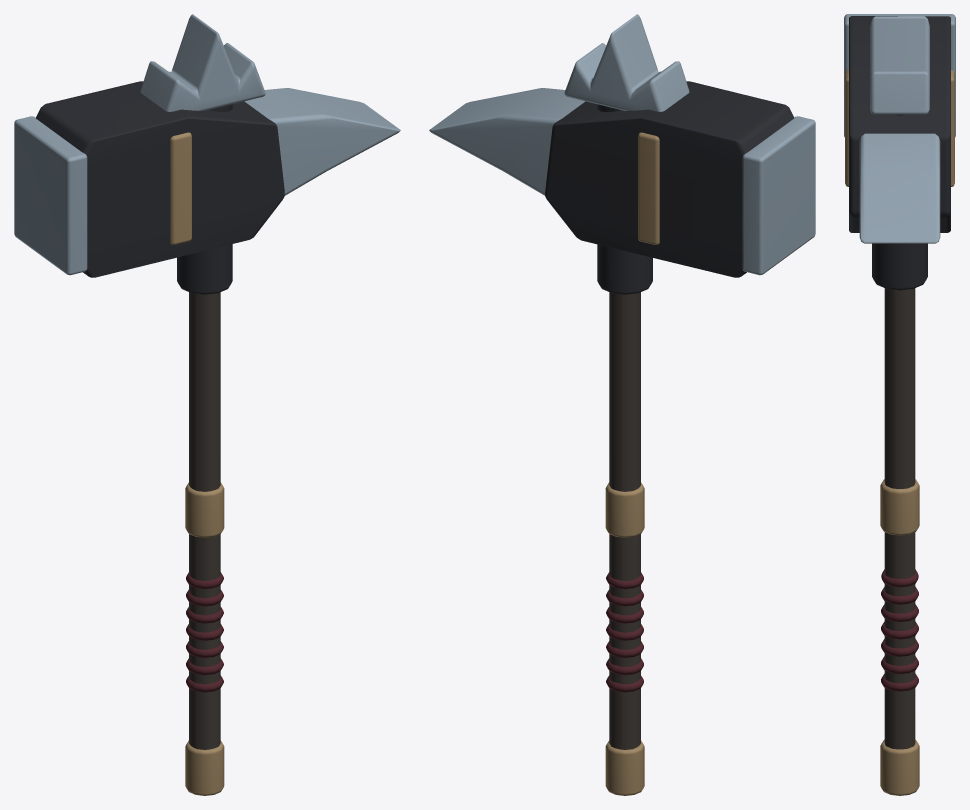
The model's file is bell-of-ruin.glb.
The picture shows the model from 3 angles, left to right: view 1: azimuth 30°, elevation 25°; view 2: azimuth 150°, elevation 25°; view 3: azimuth 270°, elevation 25°; orthographic projection.
Parts seen in each view (by area): view 1: Integral hammer housing, Walnut haft.001, Inset impact plate, Integral raven beak, Seated cathedral crown, Hammer haft socket, Seated hammer inlay, Brass ferrule.004, Brass ferrule.003; view 2: Integral hammer housing, Walnut haft.001, Inset impact plate, Integral raven beak, Seated cathedral crown, Hammer haft socket, Seated hammer inlay.001, Brass ferrule.004, Brass ferrule.003; view 3: Walnut haft.001, Integral raven beak, Integral hammer housing, Seated cathedral crown, Hammer haft socket, Brass ferrule.004, Brass ferrule.003, Inset impact plate, Seated hammer inlay, Seated hammer inlay.001, Haft wrap.013, Haft wrap.008 (+5 smaller).
Part boxes in pixels (x1=…): Integral hammer housing: x1=36, y1=81, x2=284, y2=277; Walnut haft.001: x1=189, y1=292, x2=220, y2=749; Inset impact plate: x1=14, y1=116, x2=87, y2=275; Integral raven beak: x1=245, y1=88, x2=400, y2=195; Seated cathedral crown: x1=140, y1=14, x2=265, y2=111; Hammer haft socket: x1=177, y1=104, x2=232, y2=294; Seated hammer inlay: x1=170, y1=132, x2=191, y2=244; Brass ferrule.004: x1=185, y1=482, x2=224, y2=537; Brass ferrule.003: x1=185, y1=740, x2=224, y2=795; Integral hammer housing: x1=545, y1=81, x2=794, y2=277; Walnut haft.001: x1=609, y1=292, x2=640, y2=749; Inset impact plate: x1=742, y1=116, x2=815, y2=275; Integral raven beak: x1=429, y1=88, x2=584, y2=195; Seated cathedral crown: x1=564, y1=14, x2=689, y2=111; Hammer haft socket: x1=597, y1=104, x2=652, y2=294; Seated hammer inlay.001: x1=638, y1=132, x2=659, y2=244; Brass ferrule.004: x1=605, y1=482, x2=644, y2=537; Brass ferrule.003: x1=605, y1=740, x2=644, y2=795; Walnut haft.001: x1=884, y1=288, x2=915, y2=749; Integral raven beak: x1=859, y1=133, x2=940, y2=243; Integral hammer housing: x1=849, y1=16, x2=950, y2=232; Seated cathedral crown: x1=870, y1=16, x2=929, y2=114; Hammer haft socket: x1=872, y1=114, x2=927, y2=290; Brass ferrule.004: x1=880, y1=479, x2=919, y2=535; Brass ferrule.003: x1=880, y1=739, x2=919, y2=795; Inset impact plate: x1=844, y1=14, x2=955, y2=137; Seated hammer inlay: x1=845, y1=70, x2=848, y2=186; Seated hammer inlay.001: x1=951, y1=70, x2=954, y2=186; Haft wrap.013: x1=881, y1=569, x2=918, y2=587; Haft wrap.008: x1=881, y1=656, x2=918, y2=674.
Bounding box in the file's own units: 0.6256 × 1.34 × 0.175.
